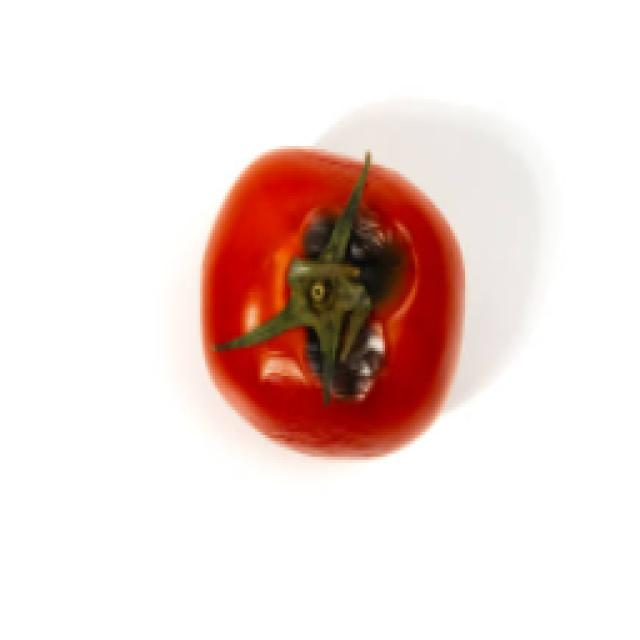Tomato: (179, 128, 487, 473)
